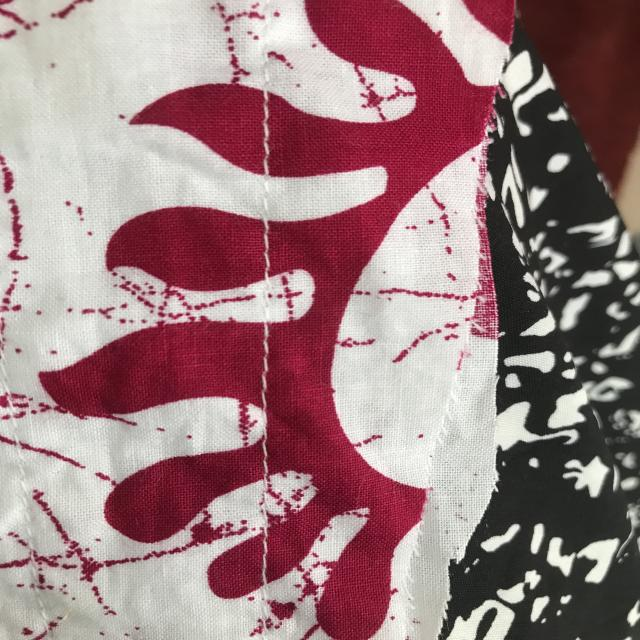good: (256, 100, 287, 170), (254, 337, 278, 394), (253, 227, 283, 272), (251, 541, 280, 579)
